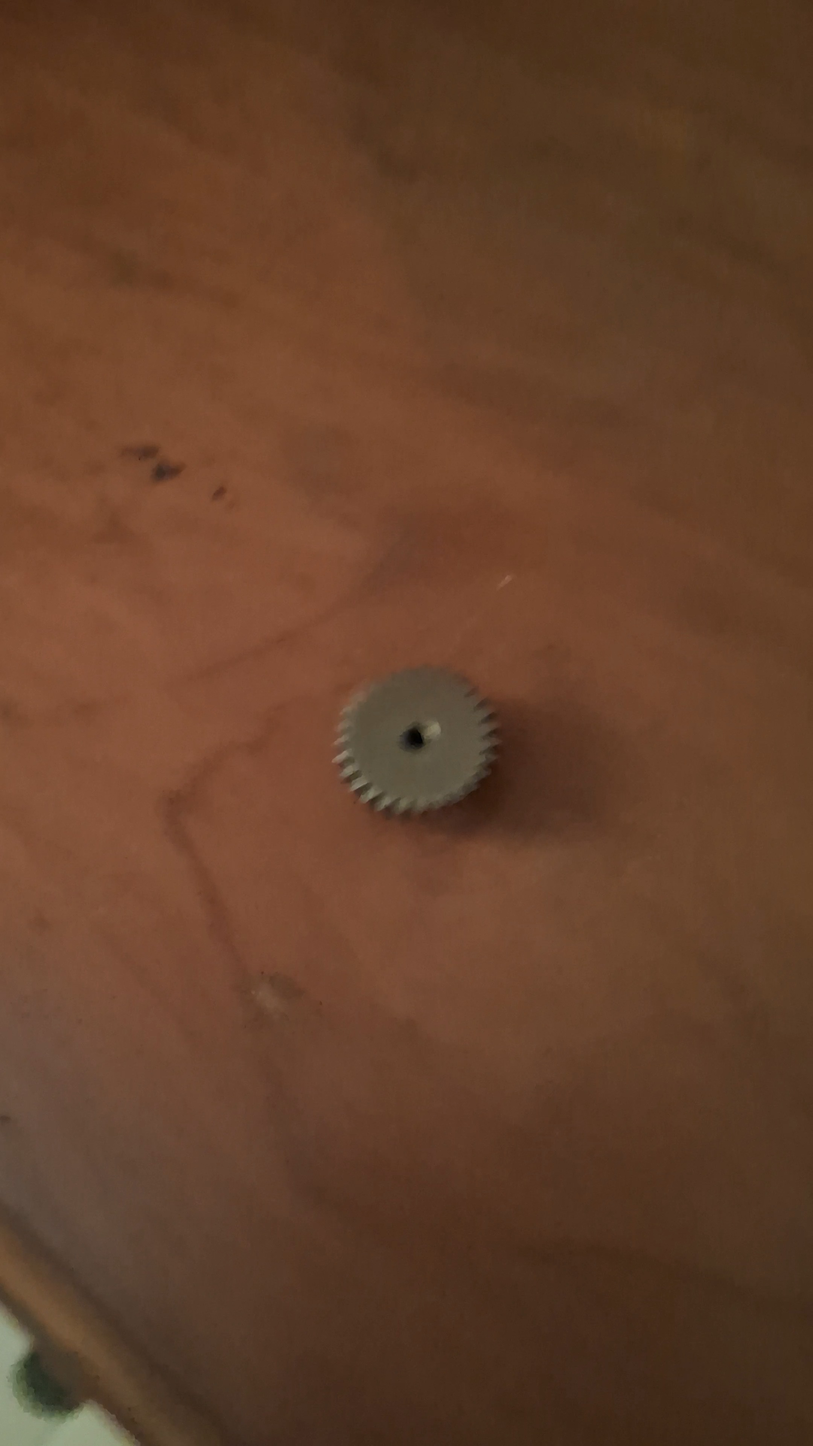spur gear: (335, 668, 496, 814)
